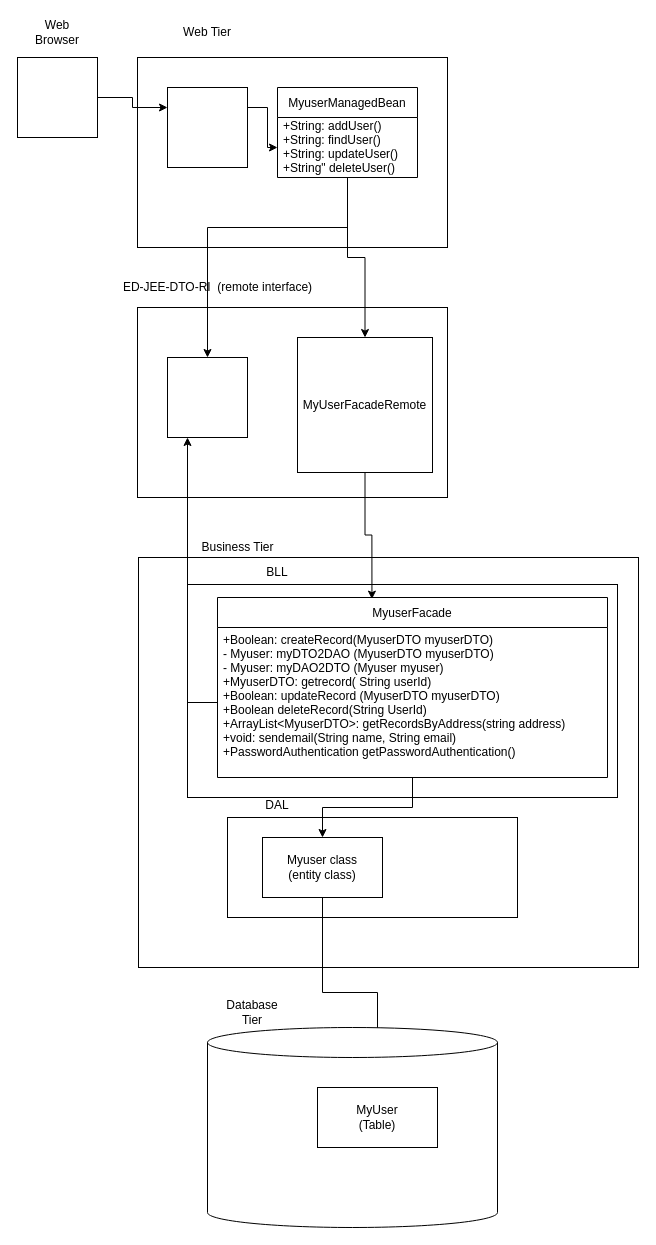
The diagram is 656 pixels wide and 1245 high, and some of its shapes have lost their labels. The shapes that lost their labels are listed below. From the top down, each one's centre as x and y in pixels, then its label:
At pixel 207 127: "webpages".
At pixel 207 397: "MyUserDTO".
